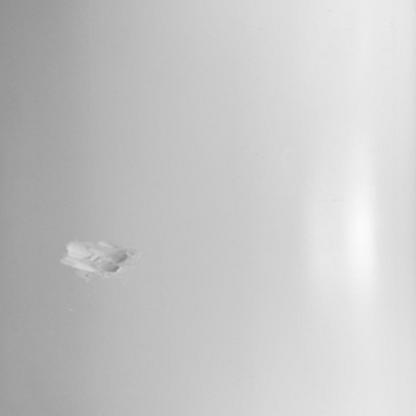sunshang: (59, 241, 141, 277)
